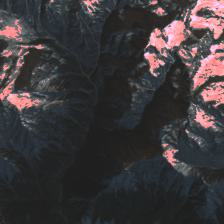landslides: (50, 105, 61, 116)
